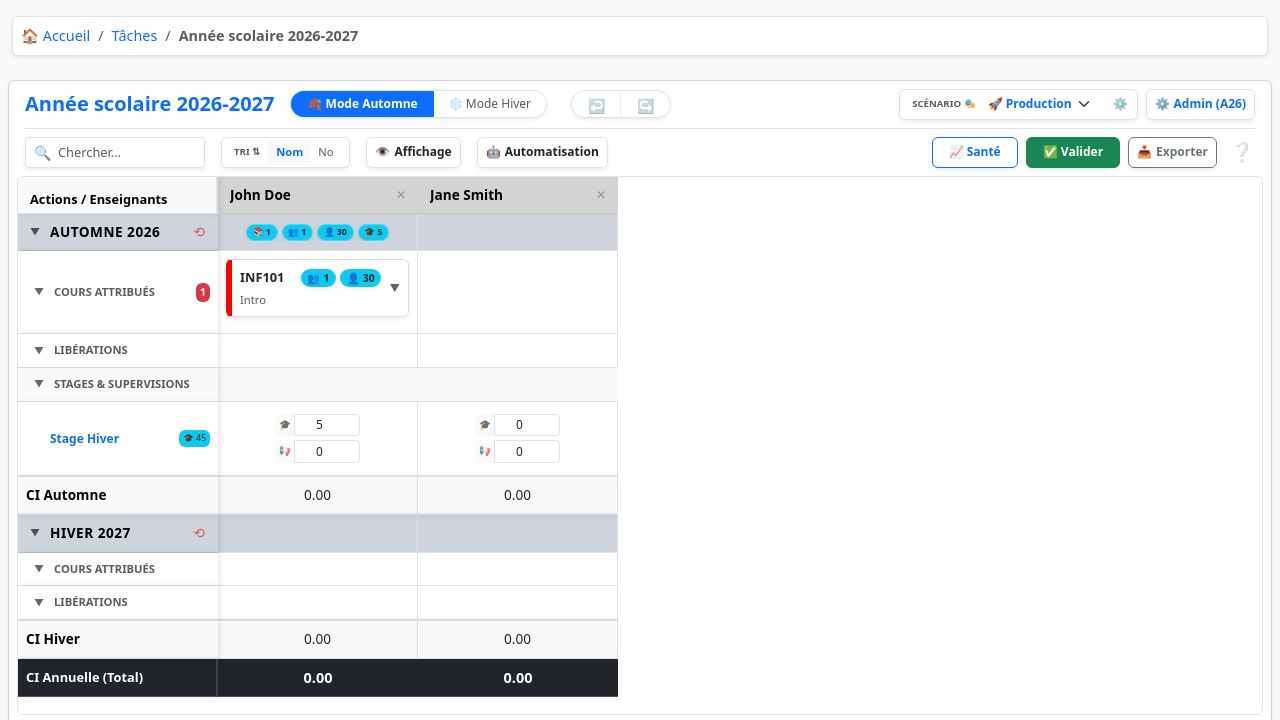
it: Undo/Redo History Workflow › should handle batch undo for session reset
The width and height of the screenshot is (1280, 720).
Click the button "👁️ Affichage": (414, 153) [367,137,461,168]
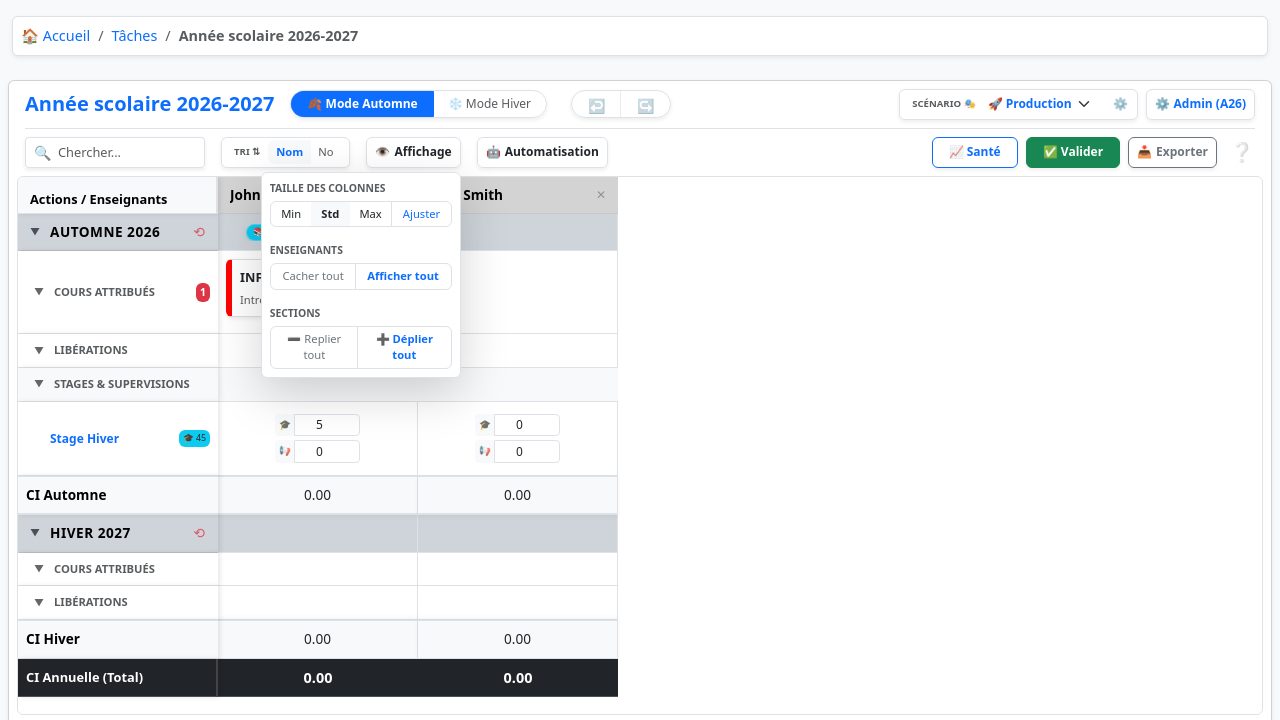
Click the button "➕ Déplier tout": (404, 348) [357,327,451,369]
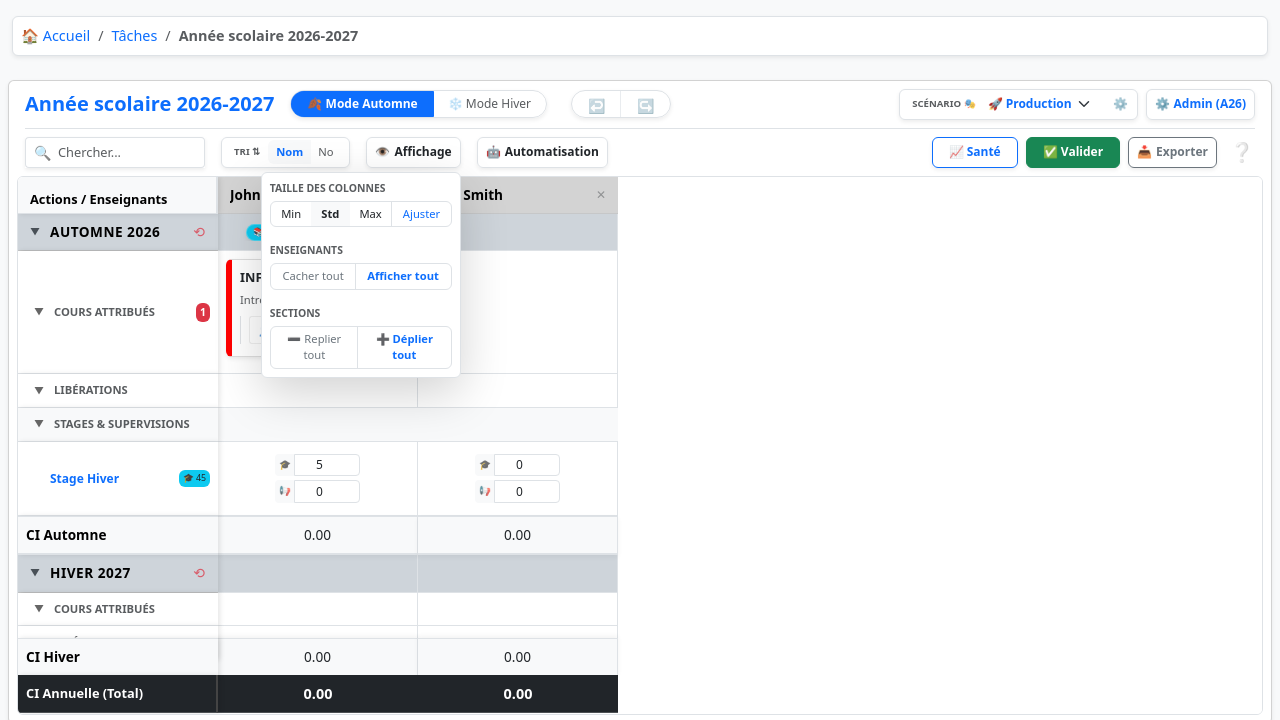
Click the 1st button titled "Réinitialiser la session": (199, 232) [192,224,206,240]
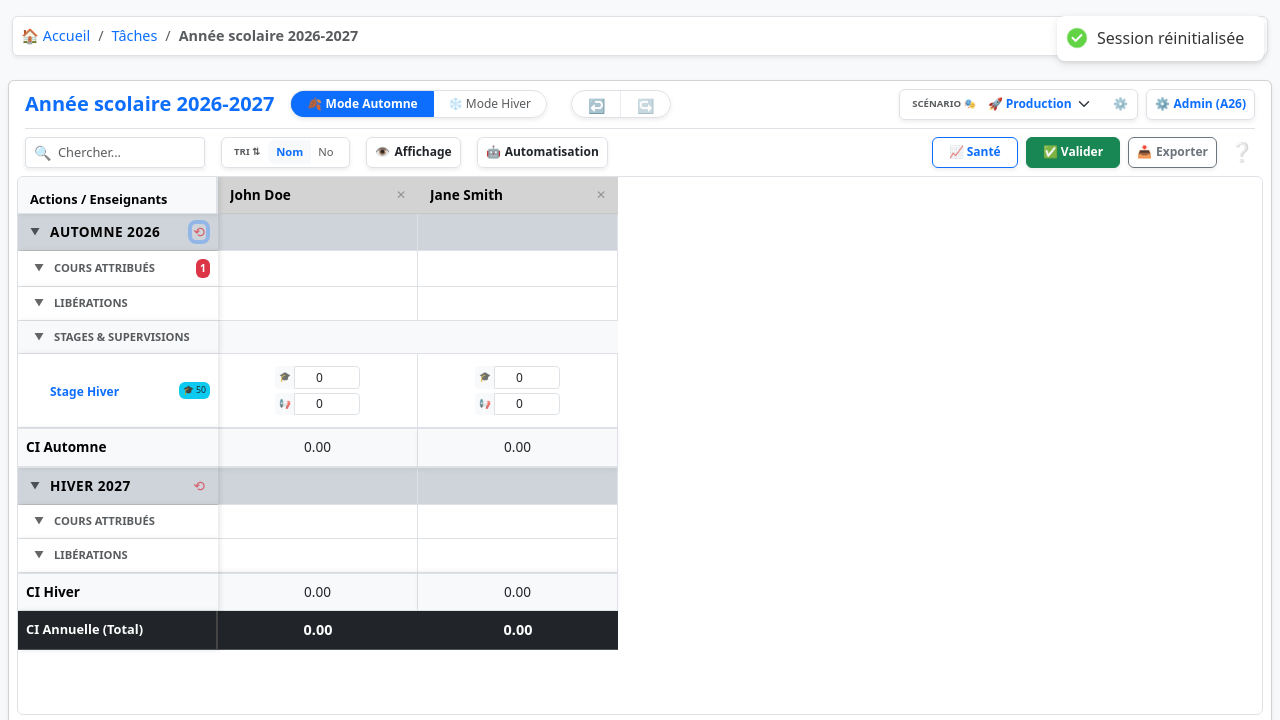
Expected: the text "INF101" is gone
Click the button "↩️": (597, 104) [572,91,621,117]
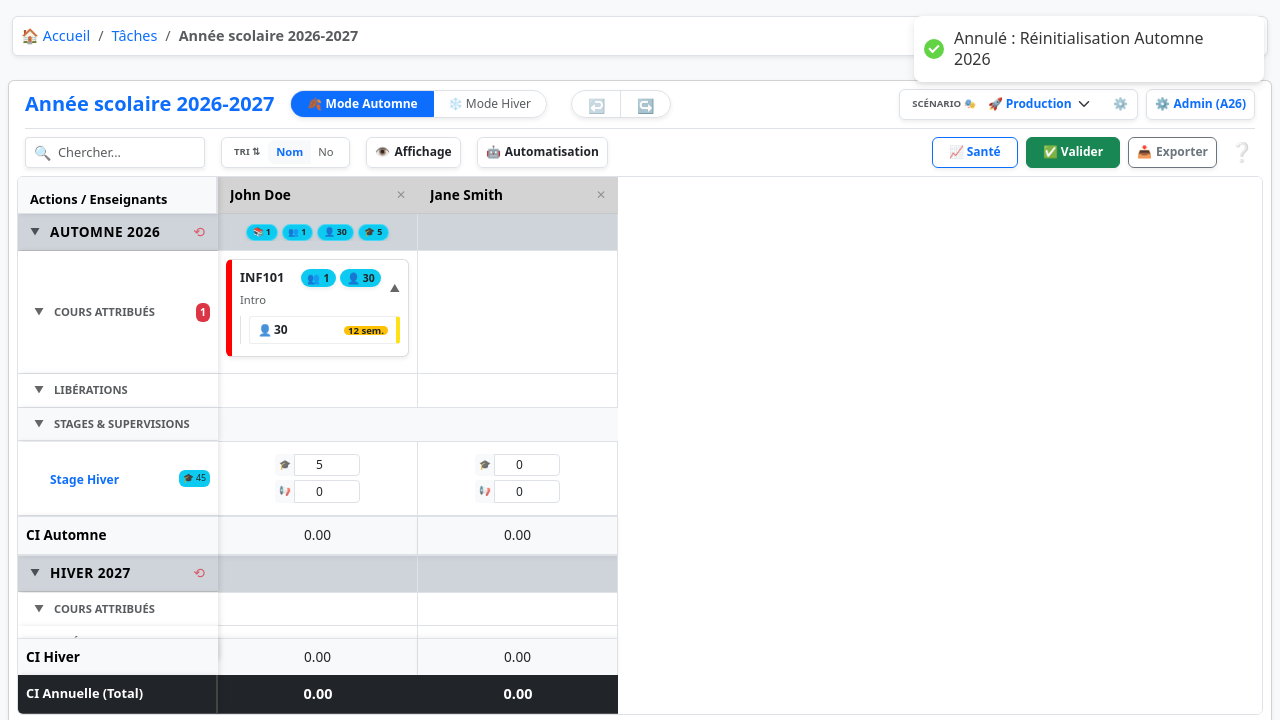
Expected: the text "Annulé : Réinitialisation Automne 2026" is shown, [954,28,1244,70]
Expected: the text "INF101" is shown, [240,268,284,288]
